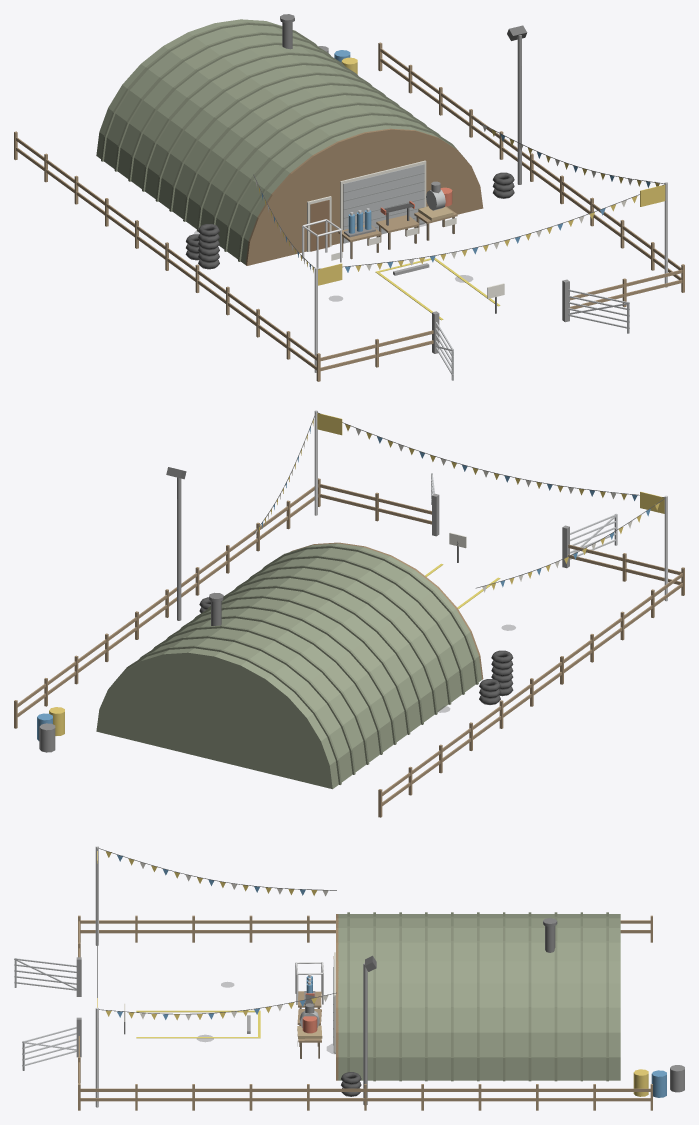
Rendered from maesnant_tuning.glb.
The picture shows the model from 3 angles, top to bottom: view 1: azimuth 30°, elevation 25°; view 2: azimuth 150°, elevation 25°; view 3: azimuth 270°, elevation 25°; orthographic projection. The views are drawn at different scales.
Size of the model in its own units: 15.46 by 6.22 by 25.91.
